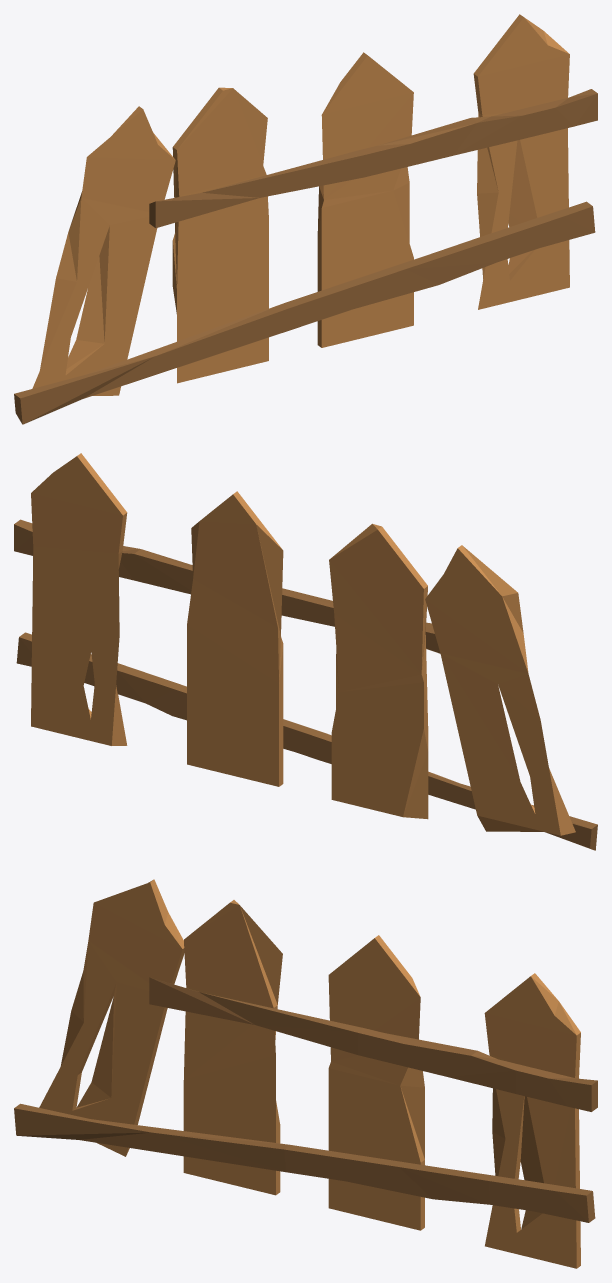
File: Fence.fbx
3 views of the same model, one above another, from view 1: azimuth 30°, elevation 25°; view 2: azimuth 150°, elevation 25°; view 3: azimuth 330°, elevation 25° (orthographic).
Visible parts, largest first — view 1: Group7, Group6, Group3, Group2, Group5, Group4; view 2: Group6, Group3, Group2, Group7, Group5, Group4; view 3: Group6, Group7, Group3, Group2, Group5, Group4.
Boxes of the visible parts, left/top/right/bottom form: Group7: left=32, top=106, right=175, bottom=395; Group6: left=172, top=87, right=268, bottom=383; Group3: left=317, top=52, right=413, bottom=347; Group2: left=473, top=14, right=569, bottom=309; Group5: left=14, top=201, right=595, bottom=424; Group4: left=149, top=89, right=597, bottom=227; Group6: left=329, top=523, right=428, bottom=819; Group3: left=187, top=491, right=283, bottom=786; Group2: left=31, top=453, right=127, bottom=745; Group7: left=425, top=545, right=575, bottom=835; Group5: left=16, top=632, right=597, bottom=850; Group4: left=14, top=519, right=440, bottom=653; Group6: left=183, top=900, right=282, bottom=1195; Group7: left=39, top=879, right=184, bottom=1156; Group3: left=328, top=935, right=424, bottom=1230; Group2: left=484, top=973, right=580, bottom=1268; Group5: left=14, top=1103, right=595, bottom=1222; Group4: left=149, top=977, right=597, bottom=1111.
Size of the model in its own units: 1567 by 732 by 52.78.
